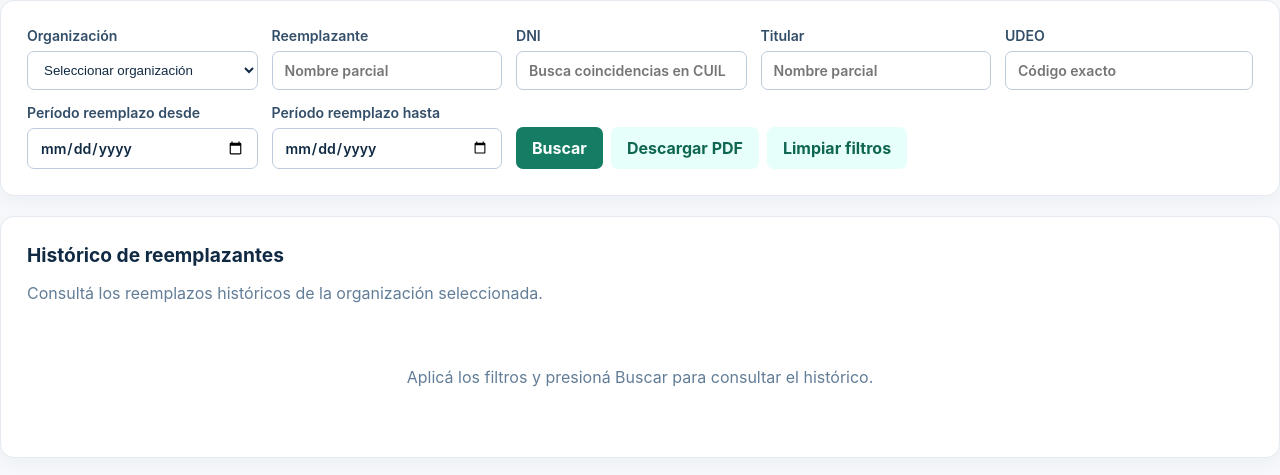
Test case: History › requiere seleccionar organización para usuario global antes de consultar
This screenshot has width=1280, height=475.
Click the button "Buscar" at (559, 148), box x1=516 y1=127 x2=603 y2=169
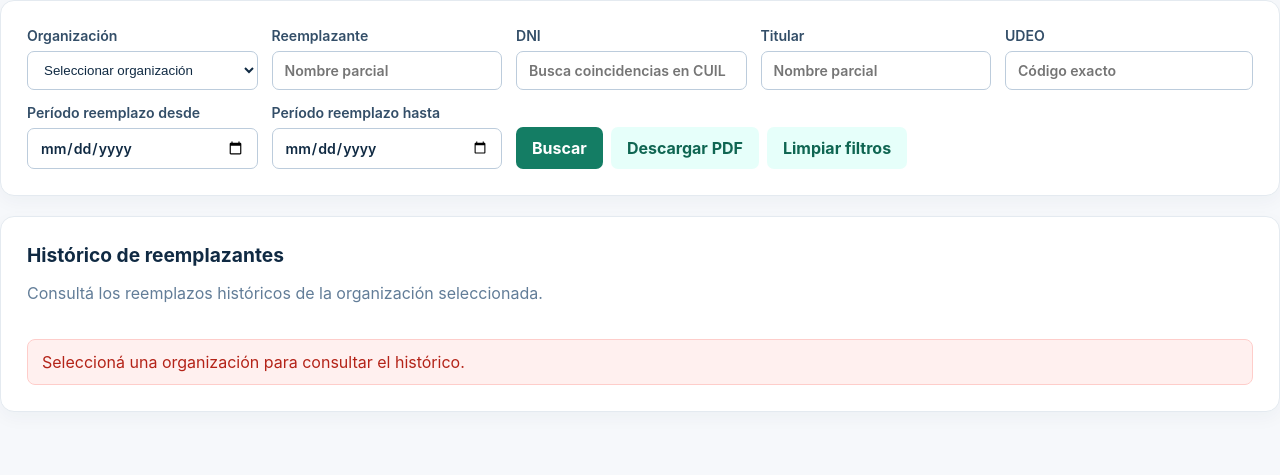
Expected: the text "Seleccioná una organización para consultar el histórico." is shown, x1=42 y1=352 x2=465 y2=372
